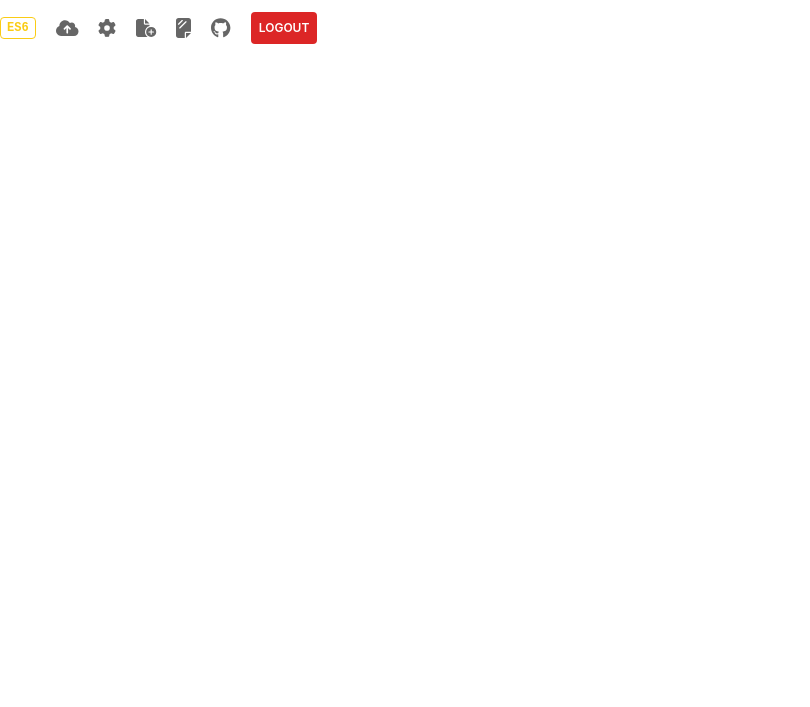
Test: CodeFeature Component › correct show popup › projects popup
Click the picture named "fa-sheet-plastic" at [184, 28], box 176,18 -> 191,38
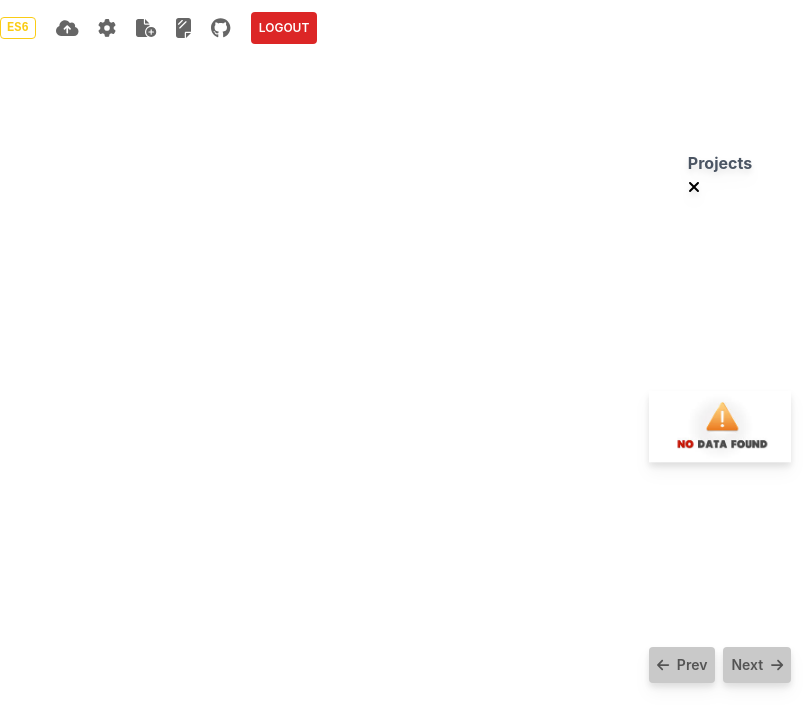
Result: the heading "Projects" is shown at 688,151 -> 752,175
